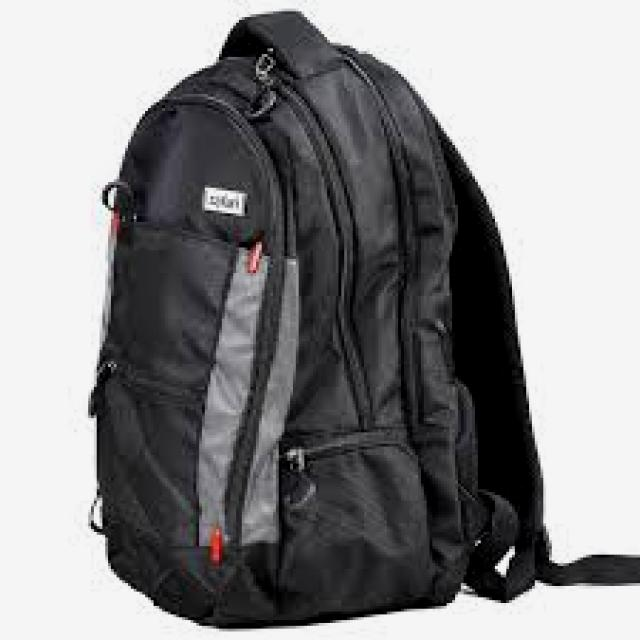backpack: (86, 7, 638, 630)
